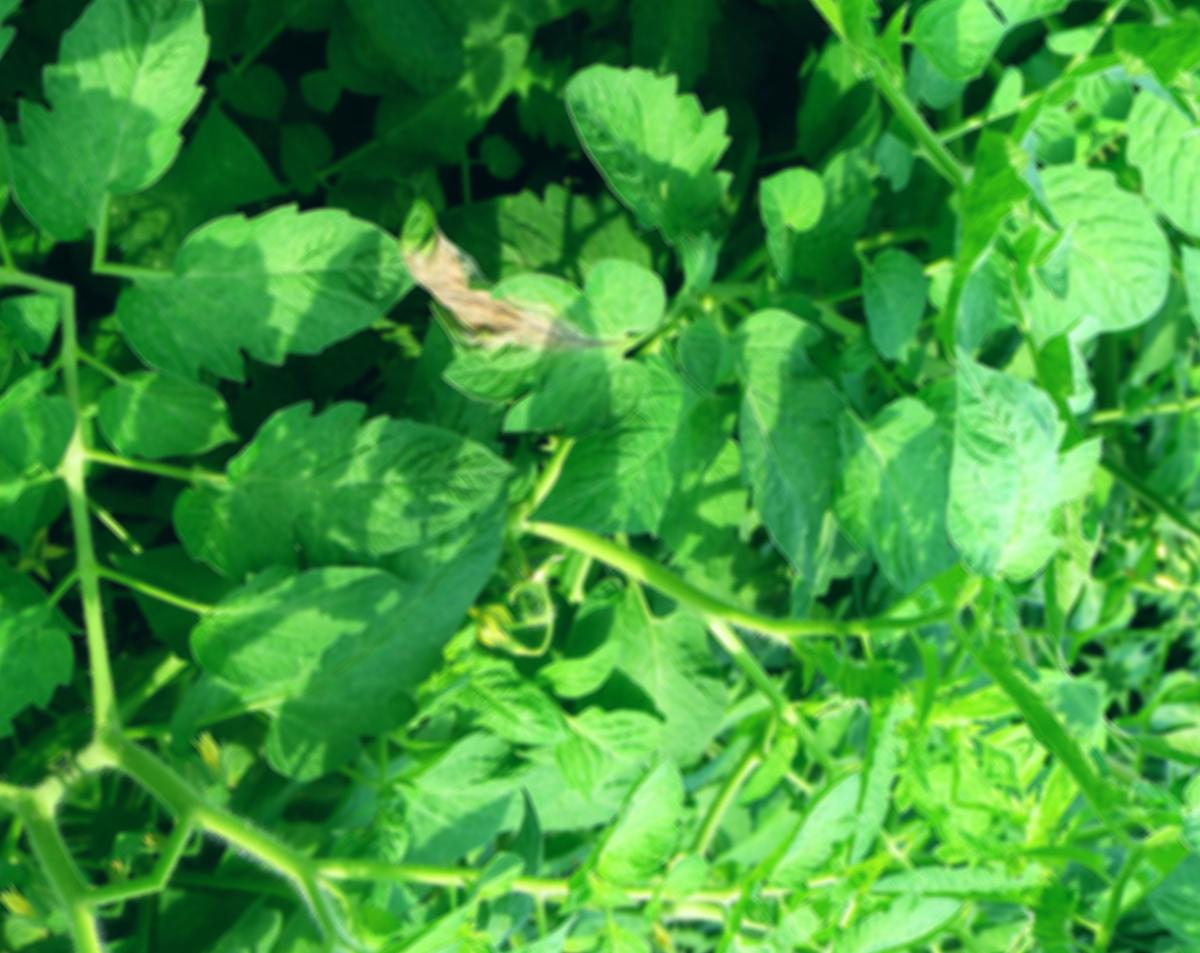Tomato leaf: (135, 290, 528, 674), (615, 260, 955, 617), (88, 125, 427, 446), (769, 340, 1038, 626), (530, 5, 799, 289), (169, 494, 419, 739), (967, 138, 1200, 380), (72, 326, 256, 511), (549, 748, 726, 910)
Tomato leaf late blight: (386, 165, 688, 467)
